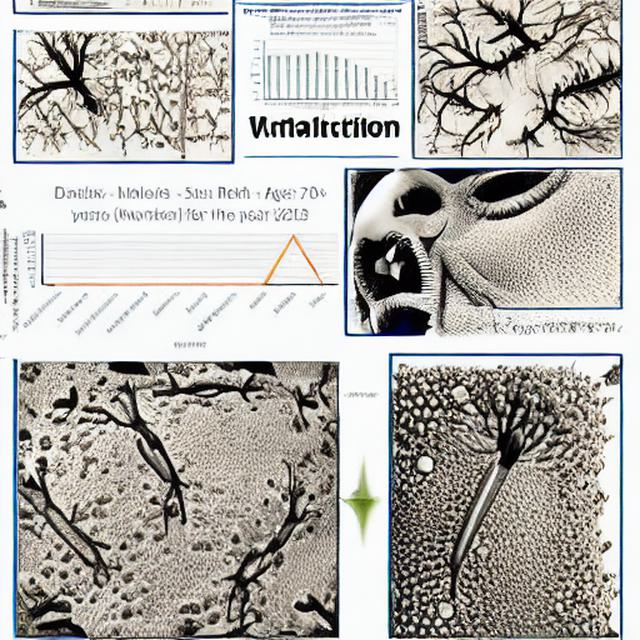Graph: (7, 175, 342, 355), (244, 29, 392, 114)
